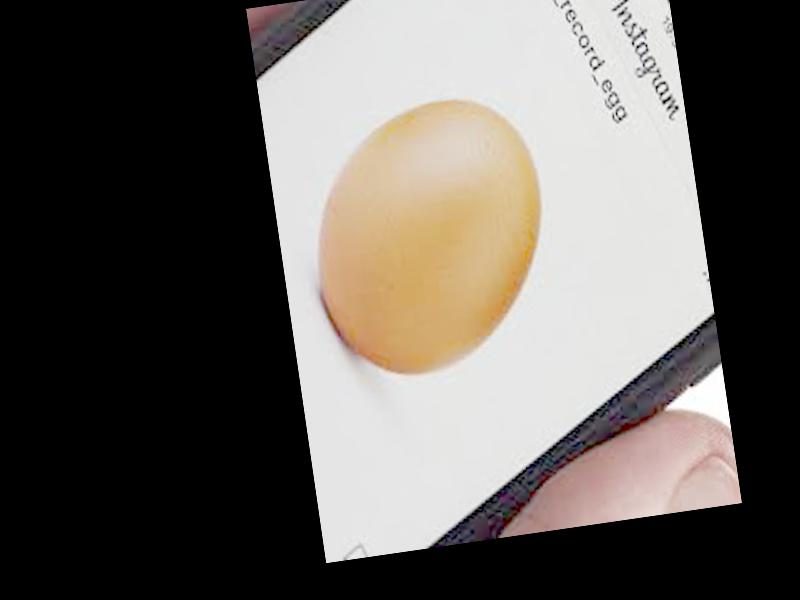Eggs: (298, 89, 563, 386)
